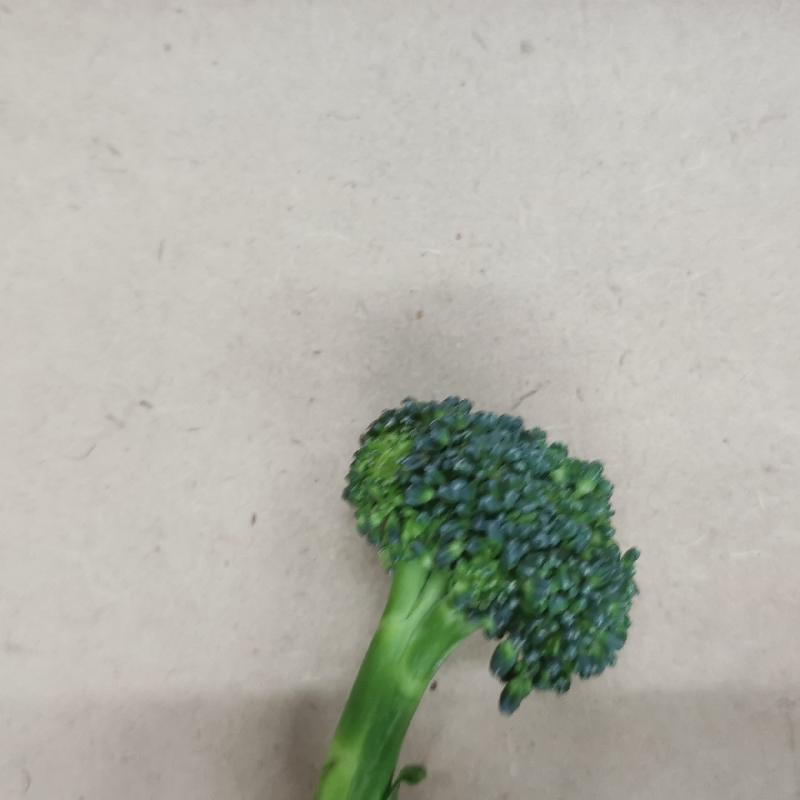broccoli: (318, 387, 652, 799)
